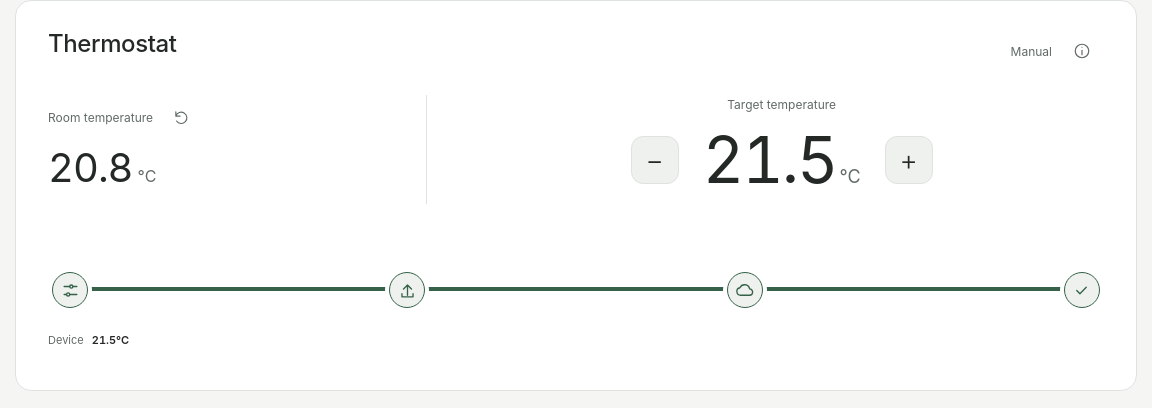
Test case: exposes checkpoint explanations on keyboard focus without changing the milestone
This screenshot has width=1152, height=408.
Focus the button named "Server acknowledged details". click: (745, 290)
box: [723,268,767,312]
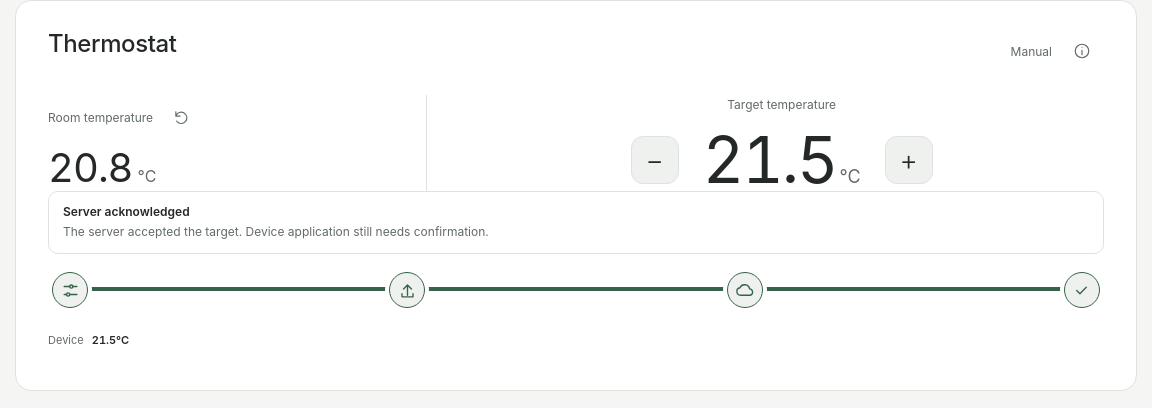
Expected: the tooltip shows "Device application still needs confirmation", [63,224,489,239]
Press Escape in the button named "Server acknowledged details", box [723,268,767,312]
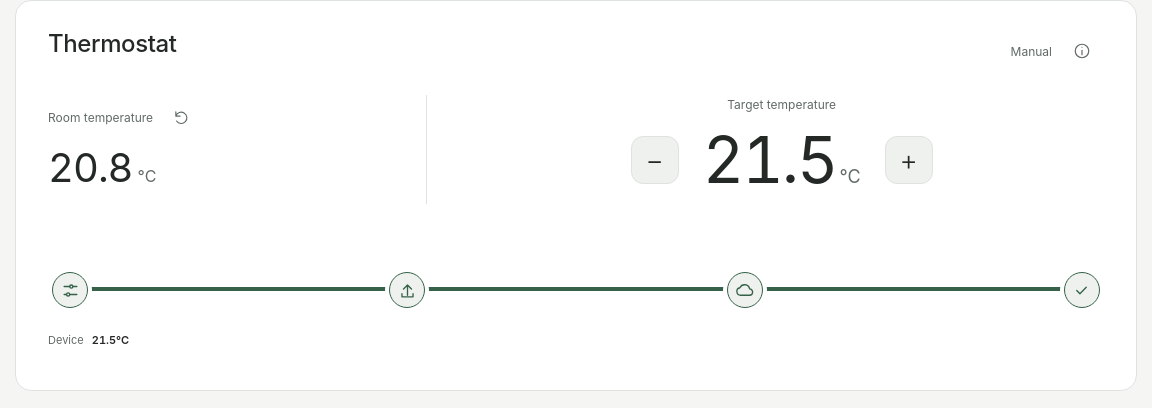
Expected: the tooltip is gone
